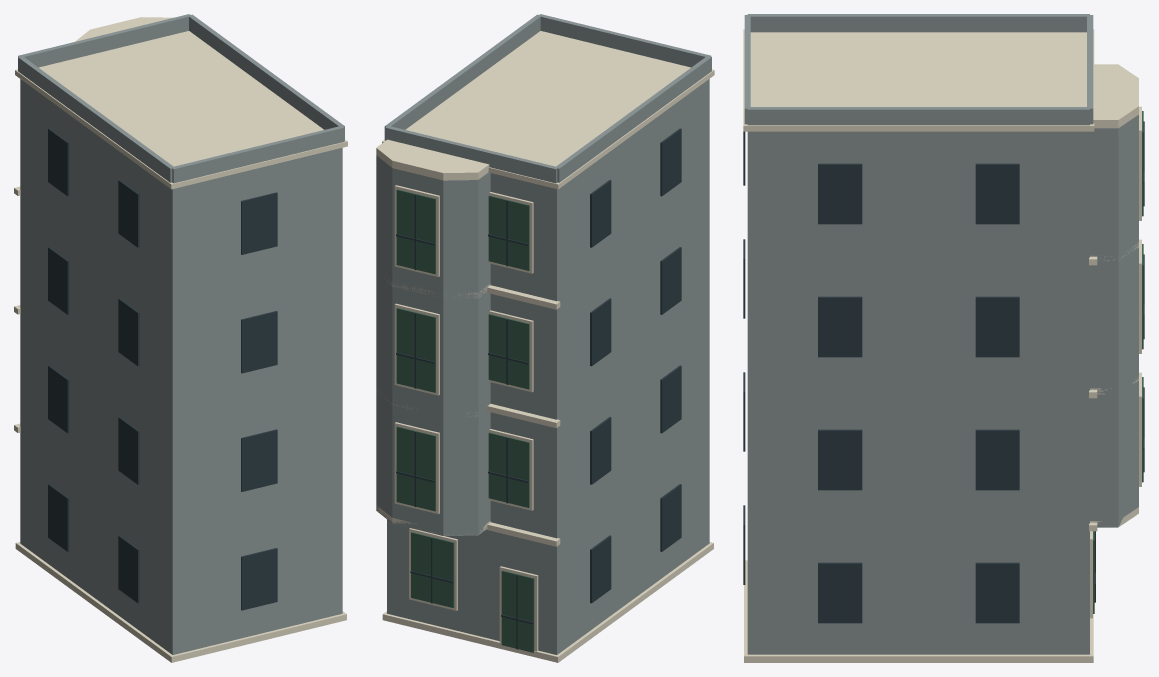
Rendered from KOL_T3_OLD_04.fbx.
3 views of the same model, side by side, from view 1: azimuth 30°, elevation 25°; view 2: azimuth 150°, elevation 25°; view 3: azimuth 270°, elevation 25° (orthographic). The views are drawn at different scales.
Visible parts, largest first — view 1: KOL_T3_OLD_04__Body, KOL_T3_OLD_04__Trim, KOL_T3_OLD_04__Dark; view 2: KOL_T3_OLD_04__Body, KOL_T3_OLD_04__Trim, KOL_T3_OLD_04__Accent, KOL_T3_OLD_04__Dark; view 3: KOL_T3_OLD_04__Body, KOL_T3_OLD_04__Trim, KOL_T3_OLD_04__Dark, KOL_T3_OLD_04__Accent.
Boxes of the visible parts, x1,y1,x2,y2 form: KOL_T3_OLD_04__Body: (18, 14, 344, 654); KOL_T3_OLD_04__Trim: (14, 17, 347, 662); KOL_T3_OLD_04__Dark: (48, 128, 277, 610); KOL_T3_OLD_04__Body: (376, 14, 711, 654); KOL_T3_OLD_04__Trim: (376, 31, 714, 662); KOL_T3_OLD_04__Accent: (396, 189, 534, 652); KOL_T3_OLD_04__Dark: (396, 128, 681, 649); KOL_T3_OLD_04__Body: (744, 14, 1138, 654); KOL_T3_OLD_04__Trim: (743, 29, 1141, 662); KOL_T3_OLD_04__Dark: (743, 121, 1144, 623); KOL_T3_OLD_04__Accent: (1093, 111, 1143, 613).
Bounding box in the file's own units: 18.74 × 49.9 × 32.84.
